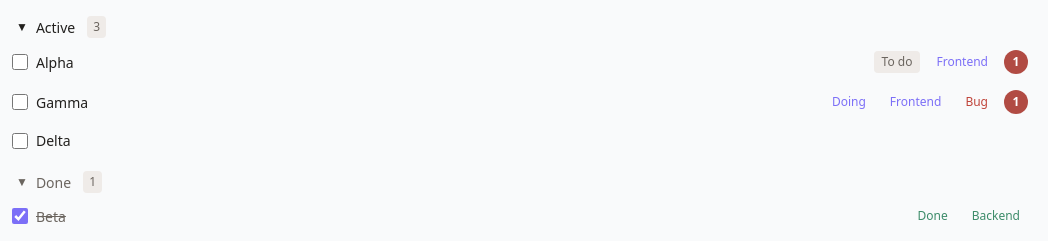
Scenario: ListViewLens › group collapsing › clicking a collapsed group header expands it again
Click the button with test id "group-active".
click(56, 27)  # box [12,12,1036,42]
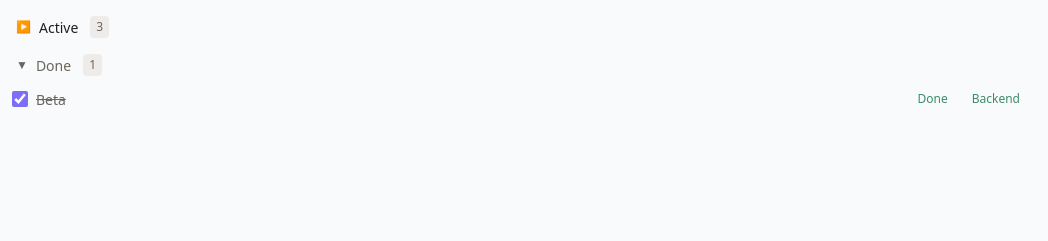
Click the button with test id "group-active".
click(59, 27)  # box [12,12,1036,42]
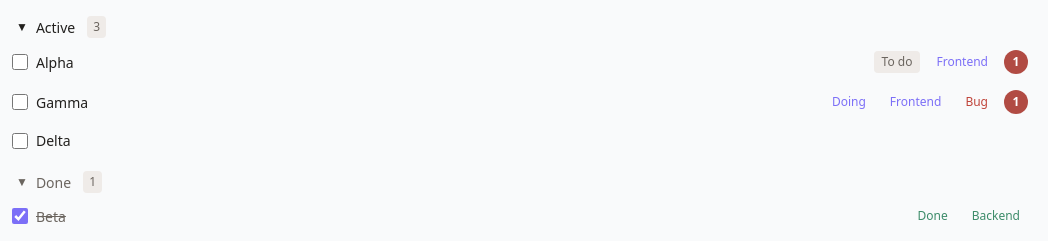
Expected: the button with test id "item-row-1" is shown, [12,42,1036,82]
